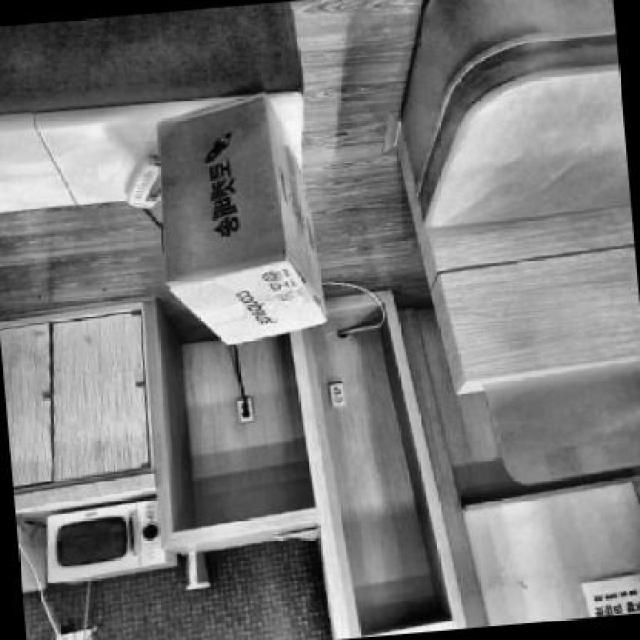box: (142, 65, 358, 362)
